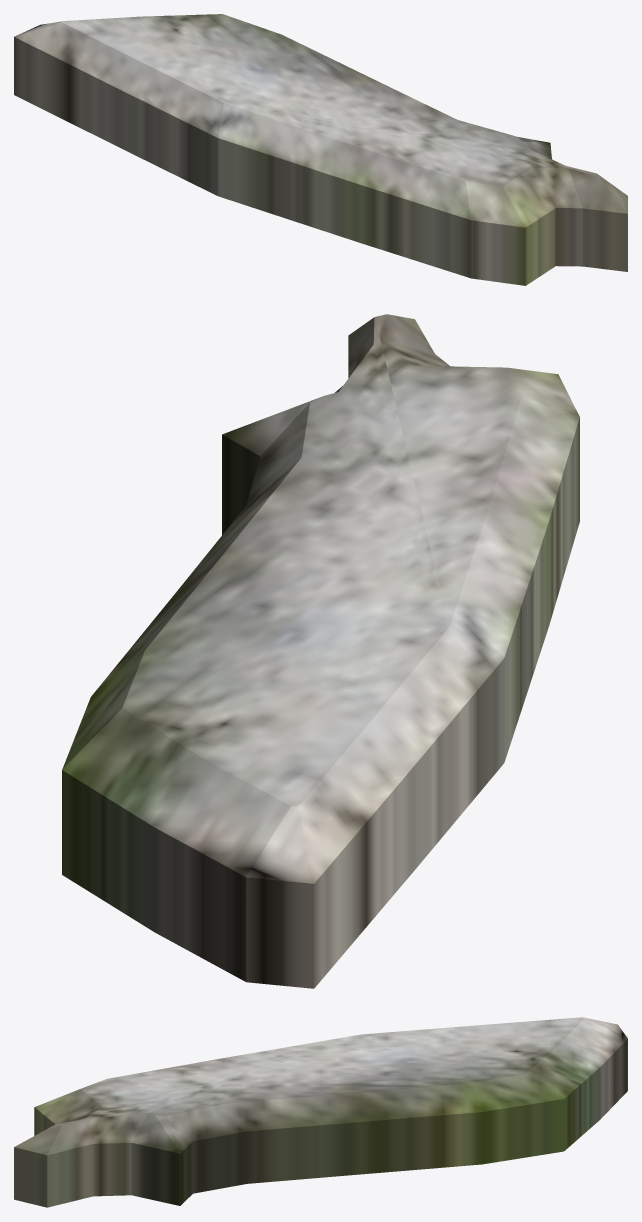
File: stone.15.fbx
3 renders of one model, top to bottom at view 1: azimuth 30°, elevation 25°; view 2: azimuth 150°, elevation 25°; view 3: azimuth 270°, elevation 25°, orthographic. The views are drawn at different scales.
Parts seen in each view (by area): view 1: stone.15; view 2: stone.15; view 3: stone.15.
Part boxes in pixels (x1,y1,x2,y2): stone.15: (14,14,627,285); stone.15: (62,314,579,988); stone.15: (14,1017,627,1207).
Size of the model in its own units: 37.91 by 9.74 by 75.2.
1 material, 1 textured.
